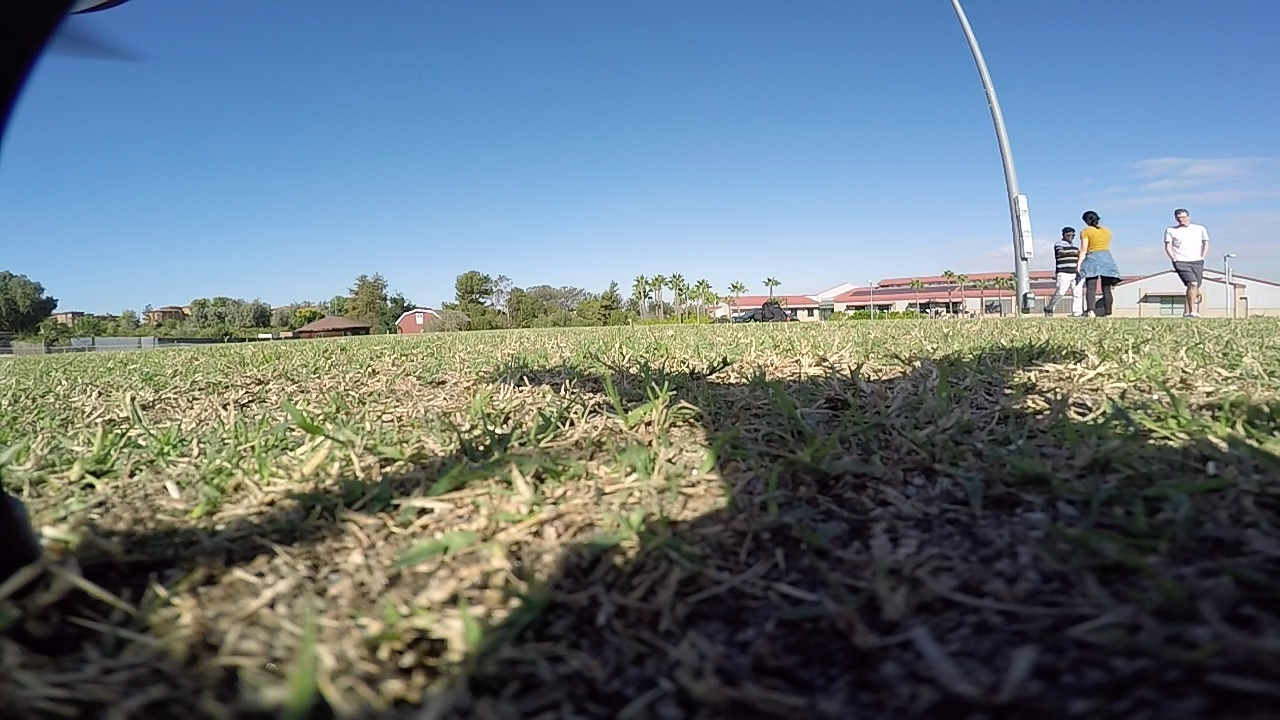person: (1161, 196, 1211, 313), (1078, 202, 1121, 312), (1047, 219, 1084, 304)
